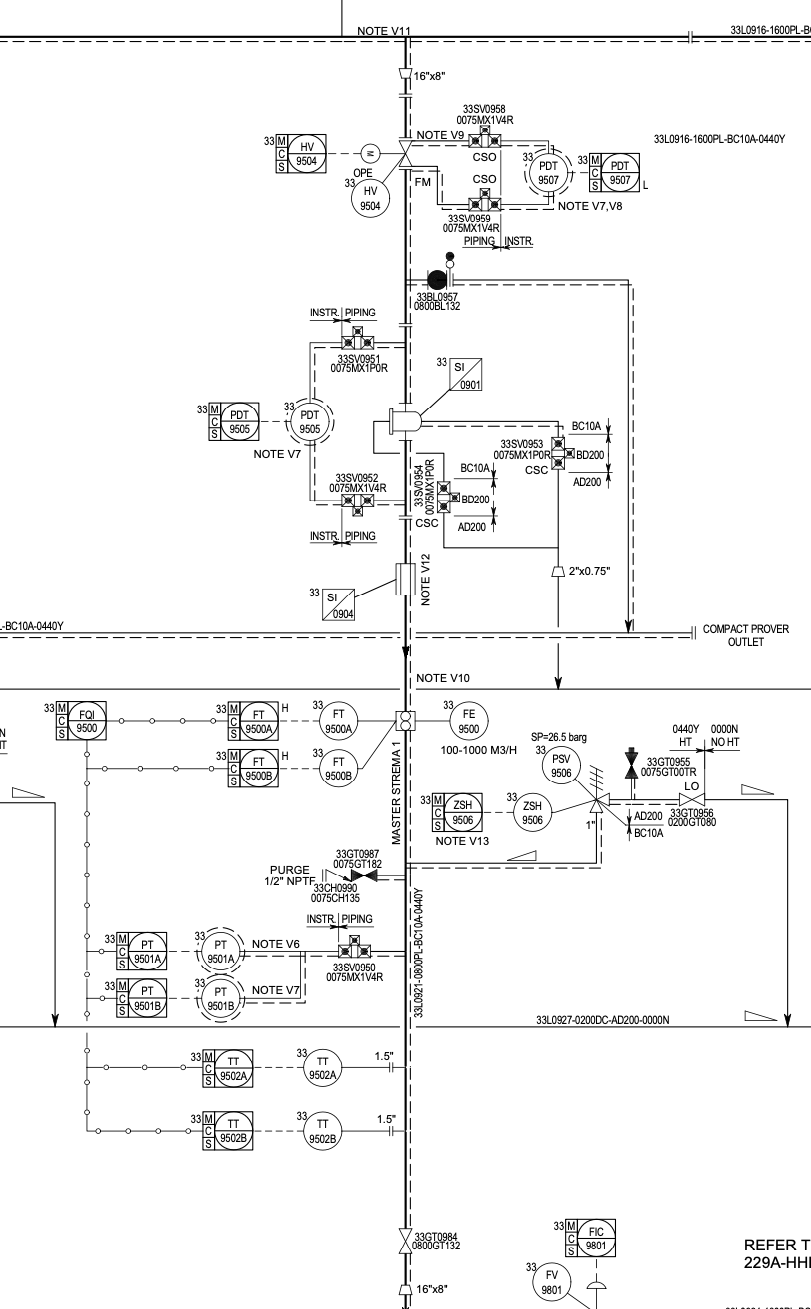Instrument: (285, 1038, 348, 1098), (277, 394, 336, 448), (519, 144, 576, 197), (343, 171, 396, 225), (290, 1105, 345, 1157), (190, 974, 248, 1023), (187, 924, 246, 971), (307, 694, 363, 743), (521, 1256, 578, 1304), (527, 741, 585, 788), (307, 742, 359, 794), (505, 790, 557, 841), (439, 696, 494, 744)
Instrument-square: (41, 690, 119, 749), (545, 1212, 627, 1264), (184, 1043, 265, 1093), (94, 923, 176, 972), (193, 394, 266, 447), (190, 1104, 262, 1157), (577, 147, 650, 198), (259, 131, 336, 177), (97, 976, 177, 1020), (417, 786, 488, 835), (216, 696, 286, 745), (214, 748, 288, 794)
